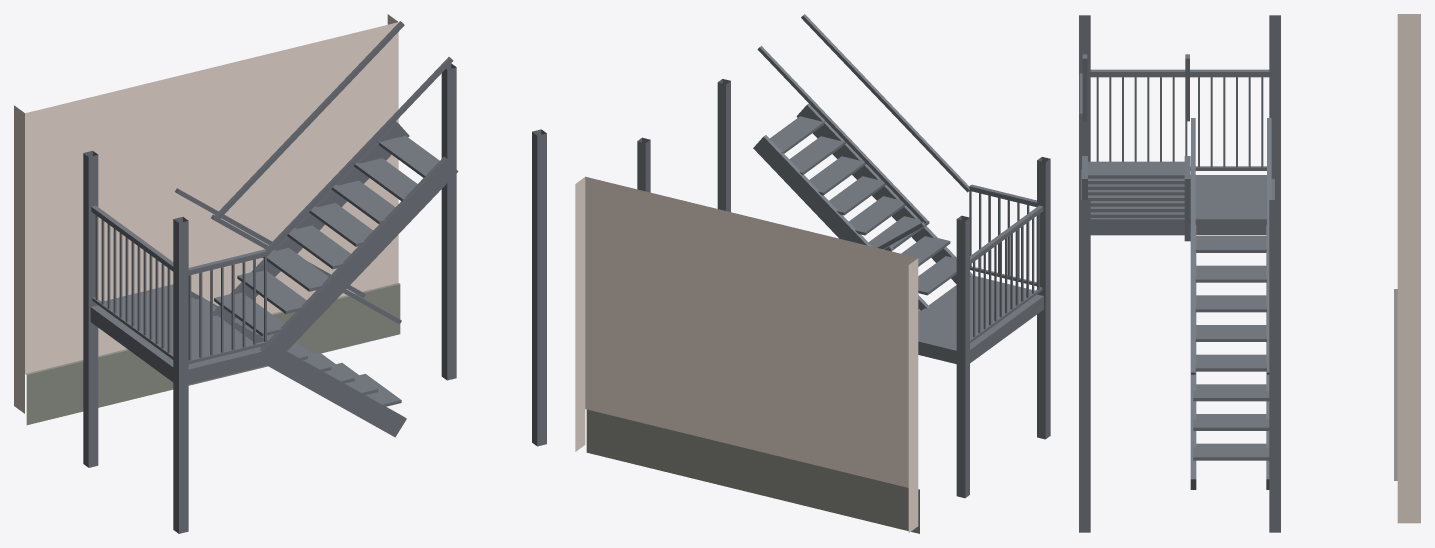
Rendered from base-stair3_close.fbx.
3 renders of one model, left to right at view 1: azimuth 30°, elevation 25°; view 2: azimuth 150°, elevation 25°; view 3: azimuth 270°, elevation 25°, orthographic. The views are drawn at different scales.
Parts seen in each view (by area): view 1: a2001/200/base-stair_close; view 2: a2001/200/base-stair_close; view 3: a2001/200/base-stair_close.
Boxes of the visible parts, x1=… form: a2001/200/base-stair_close: x1=14, y1=14, x2=546, y2=533; a2001/200/base-stair_close: x1=575, y1=14, x2=1050, y2=533; a2001/200/base-stair_close: x1=1079, y1=14, x2=1420, y2=532.
Size of the model in its own units: 3.9 by 4.15 by 2.93.
